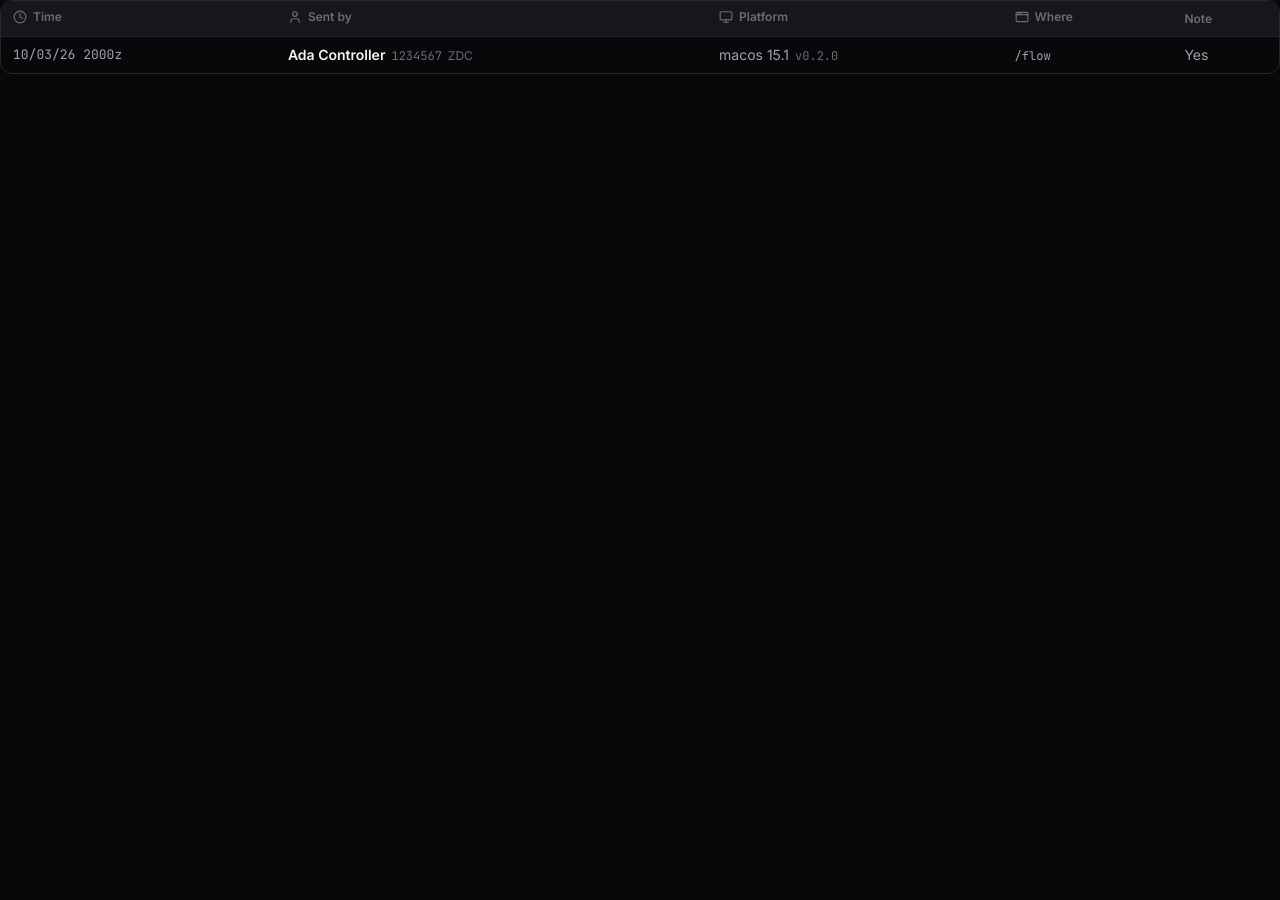
Test: AdminDiagnostics › offers delete with diagnostics.reports.delete
Click the row that starts with "10/03/26 2000z" at point(68, 54), box [1,36,1279,73]
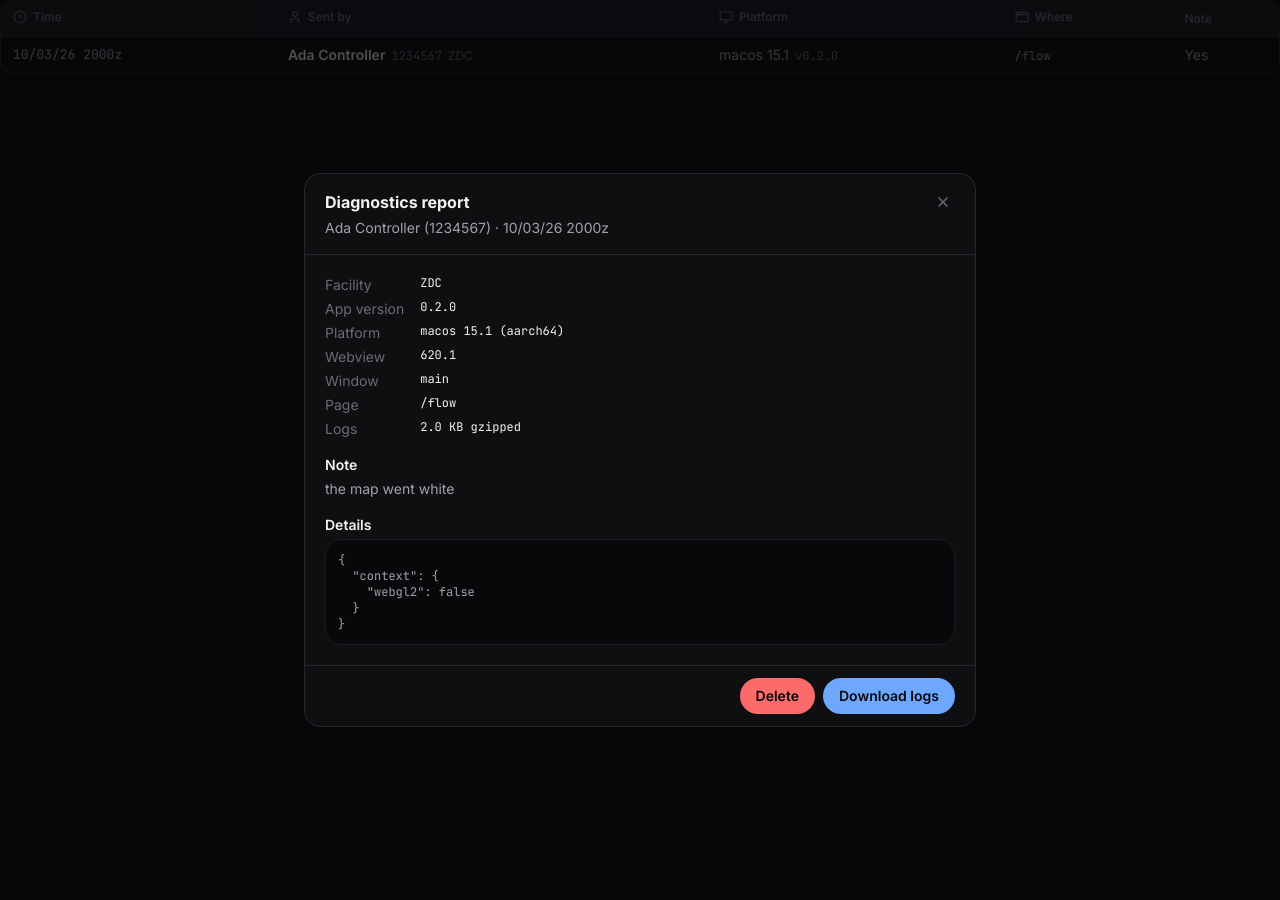
Result: the button "Delete" is shown at [740,678,815,714]
